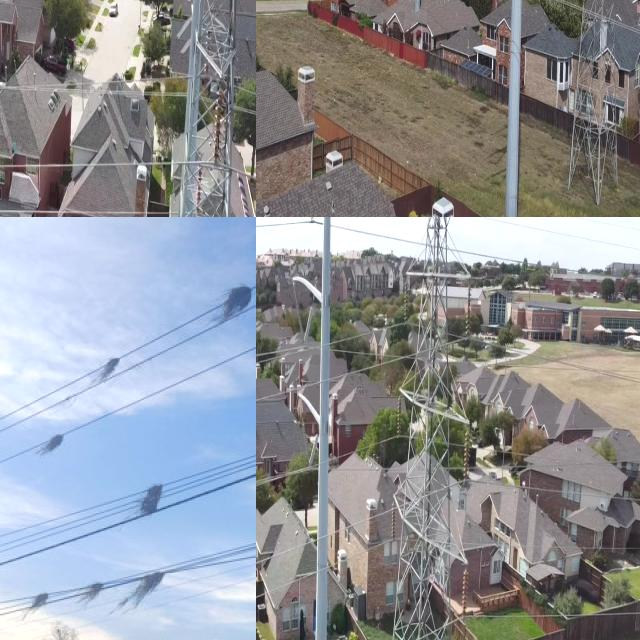杆塔: (378, 217, 466, 640), (172, 0, 240, 217), (561, 0, 629, 209)
植被遮挡: (205, 280, 256, 332), (127, 477, 174, 526), (86, 351, 129, 394), (32, 427, 75, 460)
正常电缆: (256, 346, 418, 405), (256, 535, 393, 600), (256, 503, 392, 568), (467, 605, 640, 621)
正常绝缘子: (212, 83, 224, 165), (458, 556, 470, 625), (464, 279, 474, 353), (400, 268, 410, 328), (461, 424, 471, 480), (394, 391, 404, 442), (390, 495, 397, 544)
